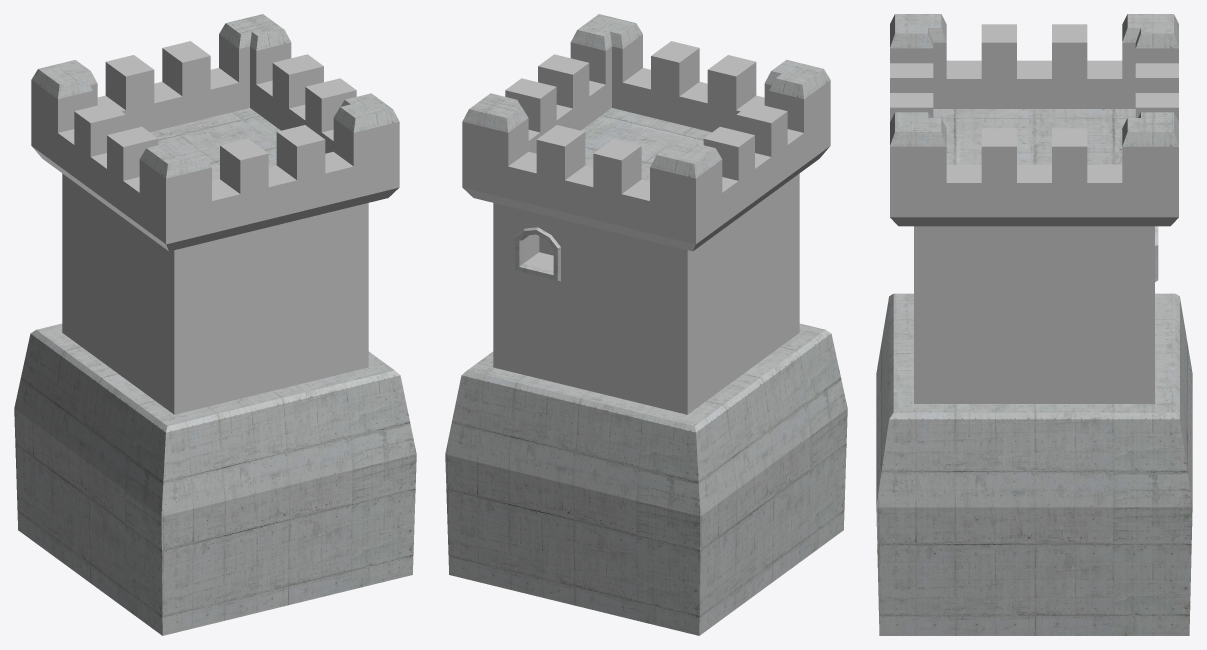
Rendered from tower_wall.FBX.
3 views of the same model, side by side, from view 1: azimuth 30°, elevation 25°; view 2: azimuth 150°, elevation 25°; view 3: azimuth 270°, elevation 25° (orthographic). The views are drawn at different scales.
Parts seen in each view (by area): view 1: tower_wall; view 2: tower_wall; view 3: tower_wall.
Part boxes in pixels (<box>): tower_wall: <box>14,14,416,635</box>; tower_wall: <box>445,14,847,635</box>; tower_wall: <box>876,14,1192,635</box>.
Bounding box in the file's own units: 15 × 26.04 × 15.
